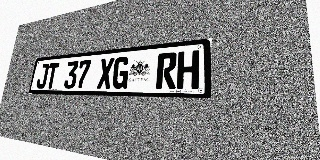3: (63, 61, 79, 89)
7: (75, 60, 91, 89)
G: (111, 56, 130, 89)
H: (176, 50, 200, 89)
J: (36, 63, 50, 89)
R: (156, 52, 177, 89)
T: (45, 62, 60, 89)
X: (97, 58, 115, 89)
